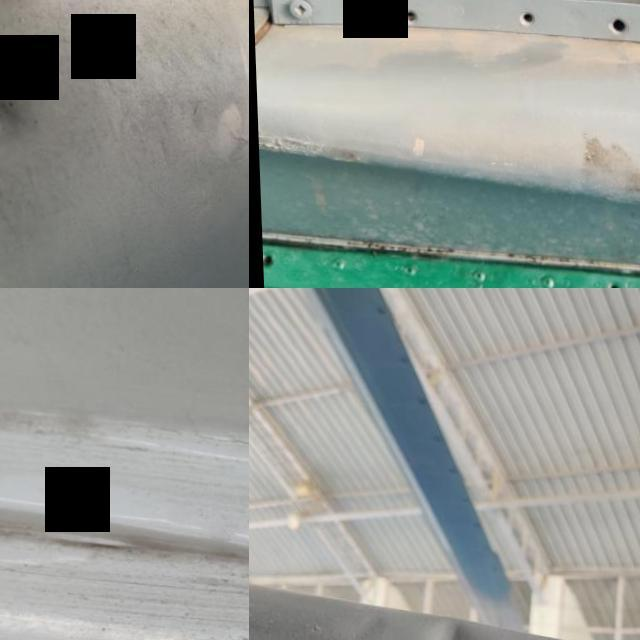Crack: (116, 384, 249, 613)
Dent: (0, 43, 63, 170), (416, 611, 480, 640), (539, 629, 597, 640)
Missing_Fastener: (590, 0, 637, 44), (385, 0, 428, 33), (501, 0, 541, 33), (527, 0, 582, 16)
